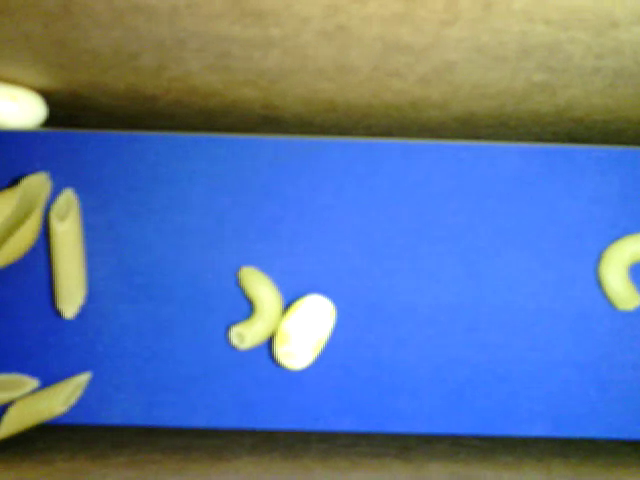elbow: (228, 265, 283, 352), (598, 231, 639, 312)
penne: (1, 371, 92, 439), (49, 186, 88, 319), (1, 373, 42, 404)
shell: (1, 171, 54, 265)
